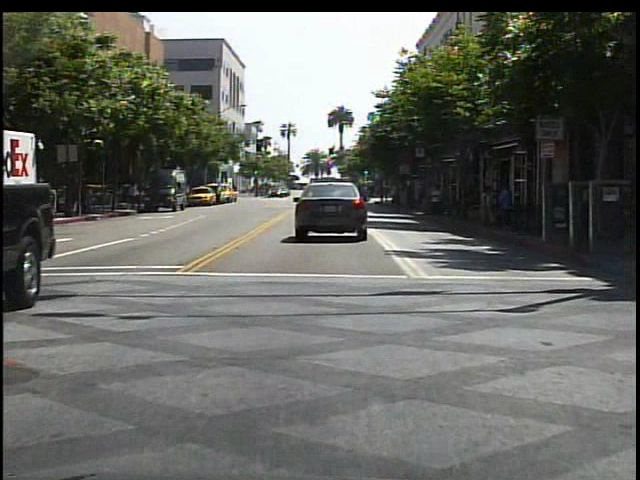person: (427, 181, 447, 220)
